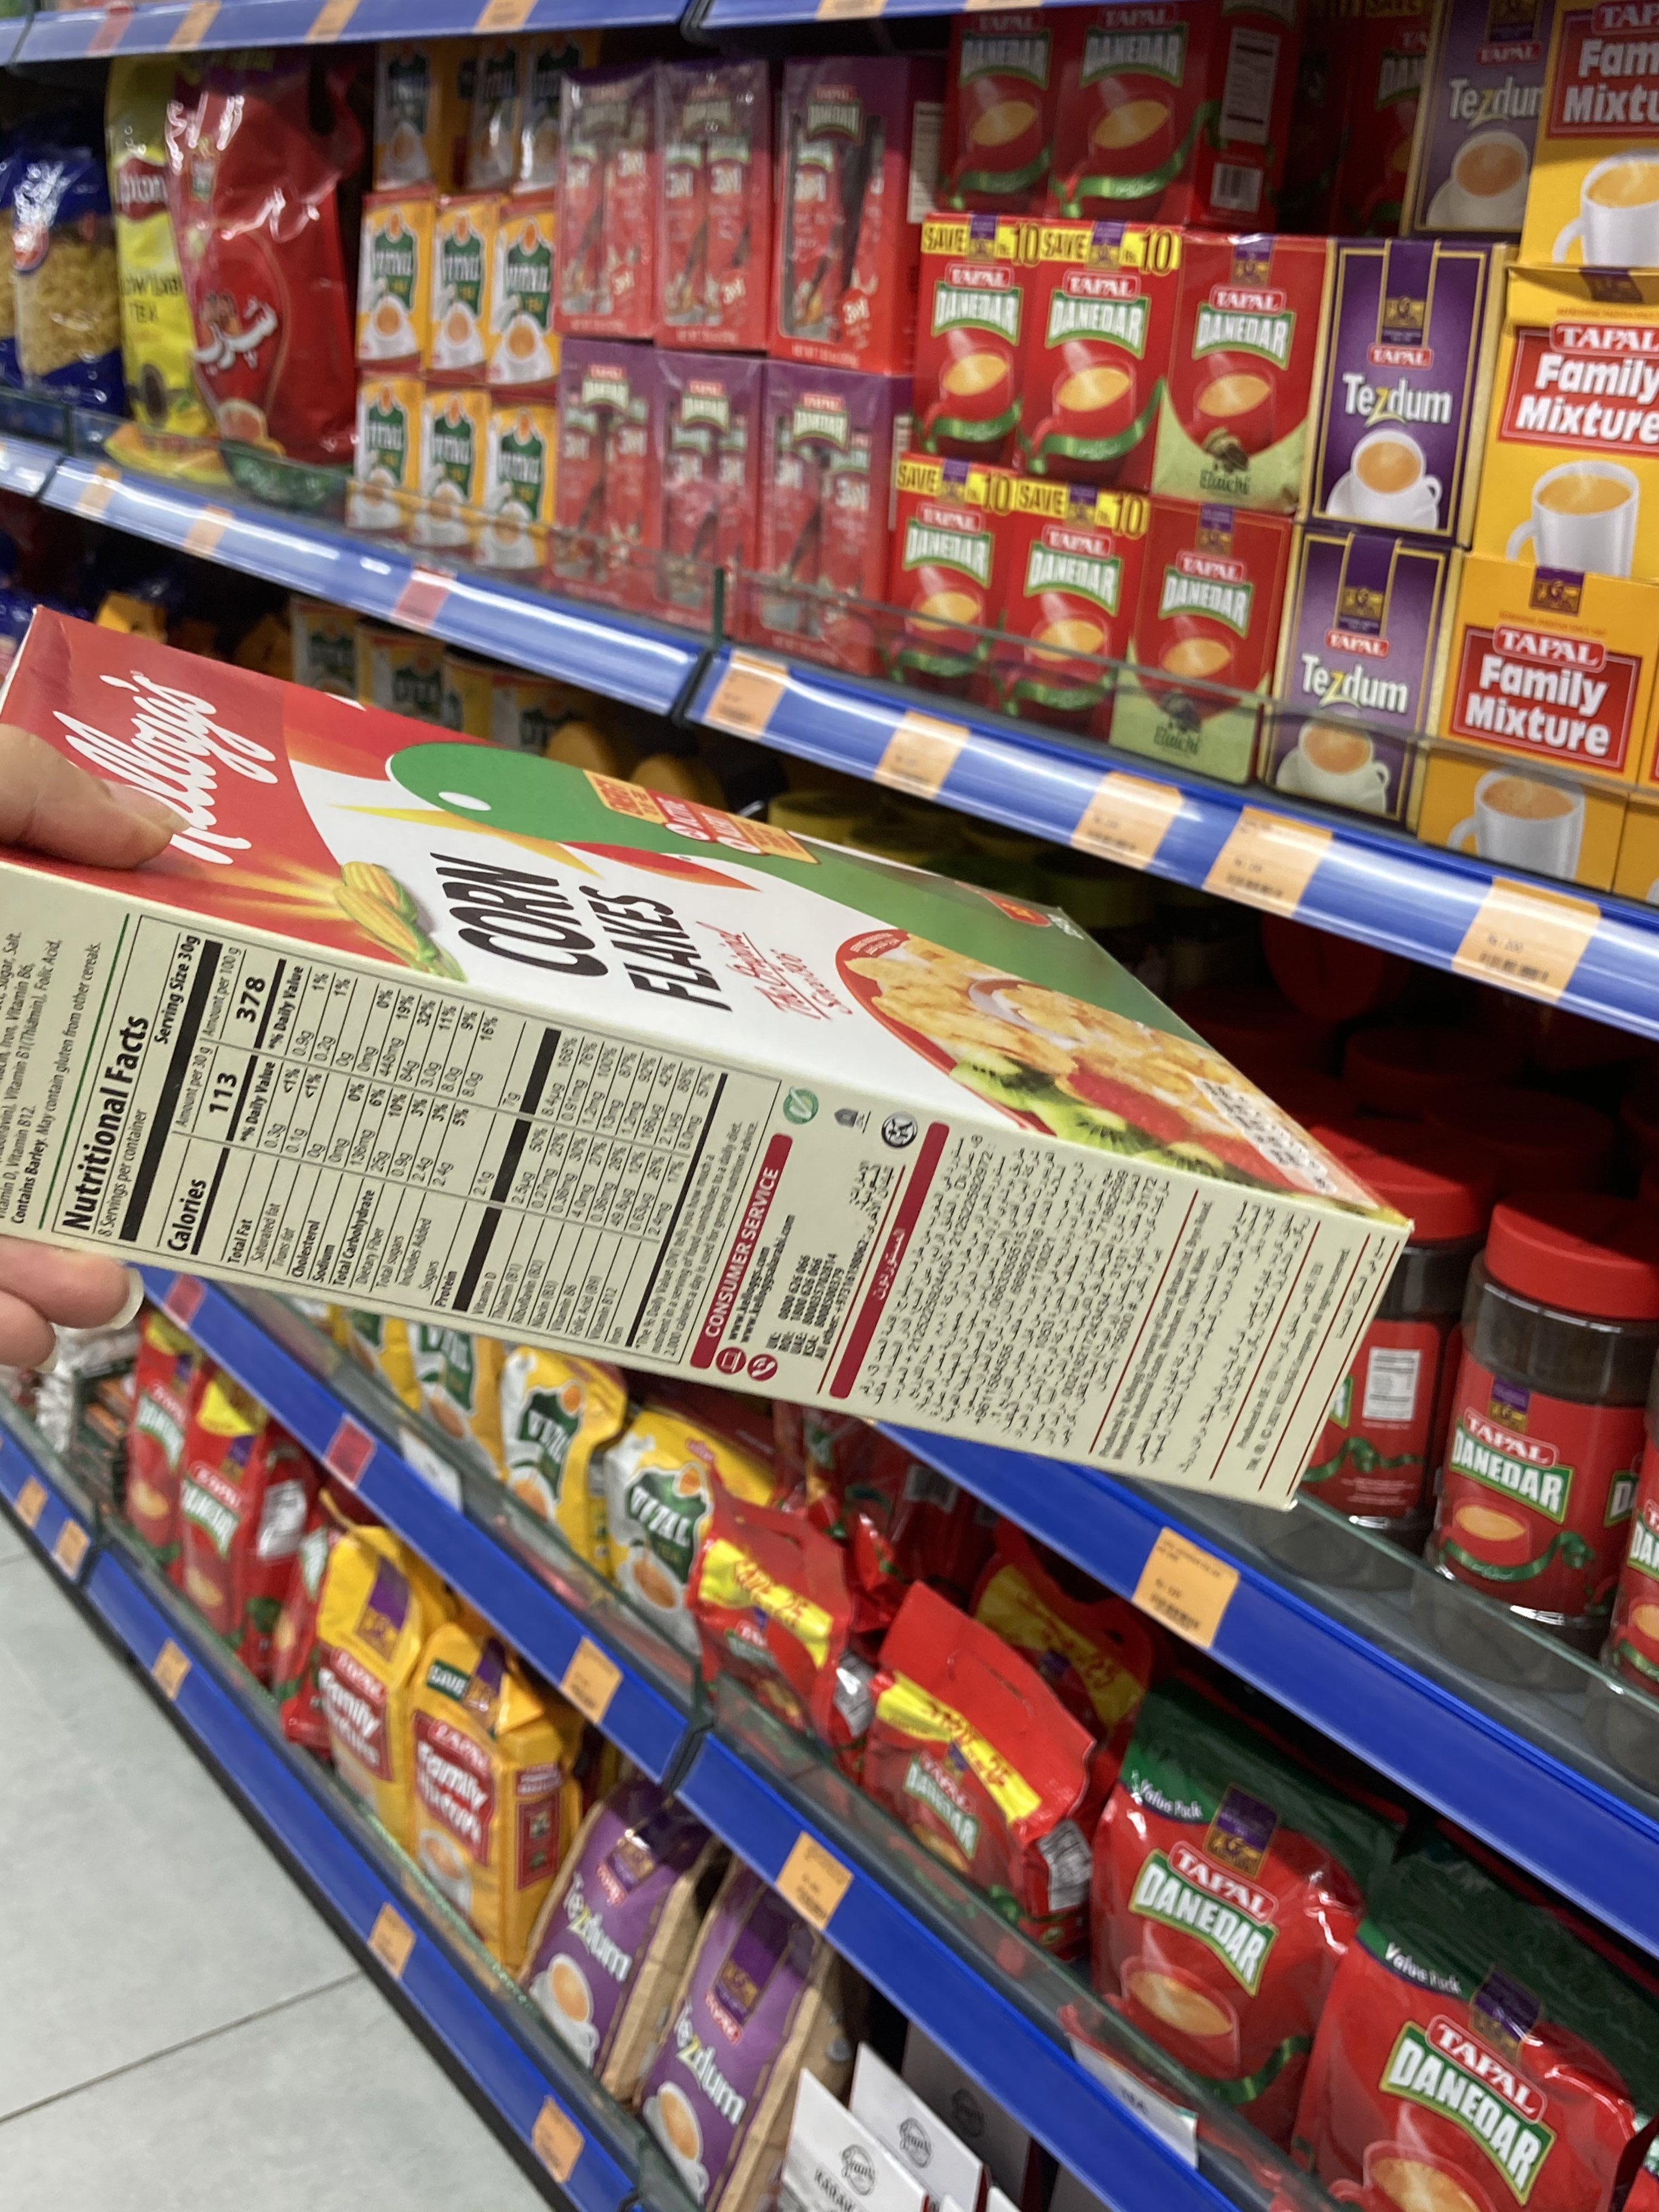Kellogg's Corn Flakes: (2, 599, 1417, 1514)
